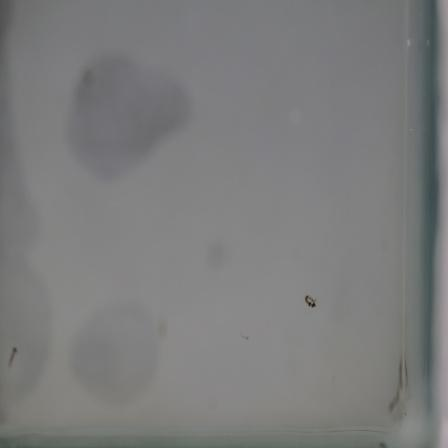Jentik-Nyamuk: (301, 289, 323, 312)
